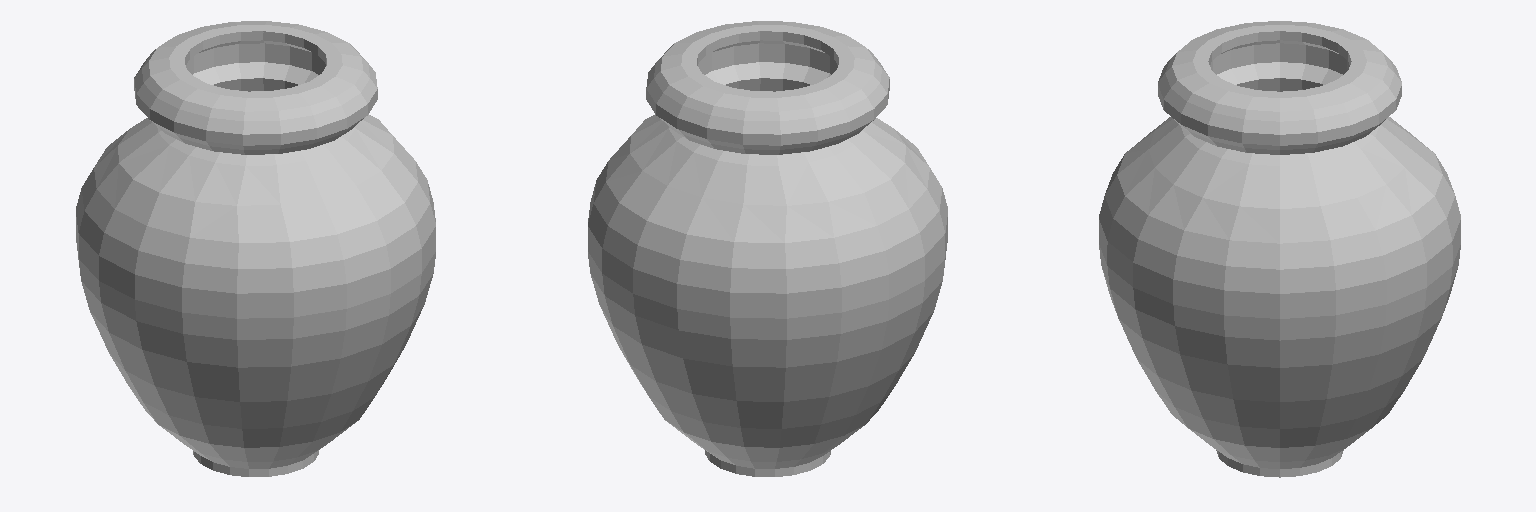
Rendered from Jarron2.obj.
3 views of the same model, side by side, from view 1: azimuth 30°, elevation 25°; view 2: azimuth 150°, elevation 25°; view 3: azimuth 270°, elevation 25° (orthographic).
Parts seen in each view (by area): view 1: Jarron_pCylinder2; view 2: Jarron_pCylinder2; view 3: Jarron_pCylinder2.
Part boxes in pixels (x1,y1,x2,y2): Jarron_pCylinder2: (76, 21, 435, 476); Jarron_pCylinder2: (588, 21, 947, 476); Jarron_pCylinder2: (1099, 21, 1460, 477).
Size of the model in its own units: 0.7378 by 0.8733 by 0.7378.